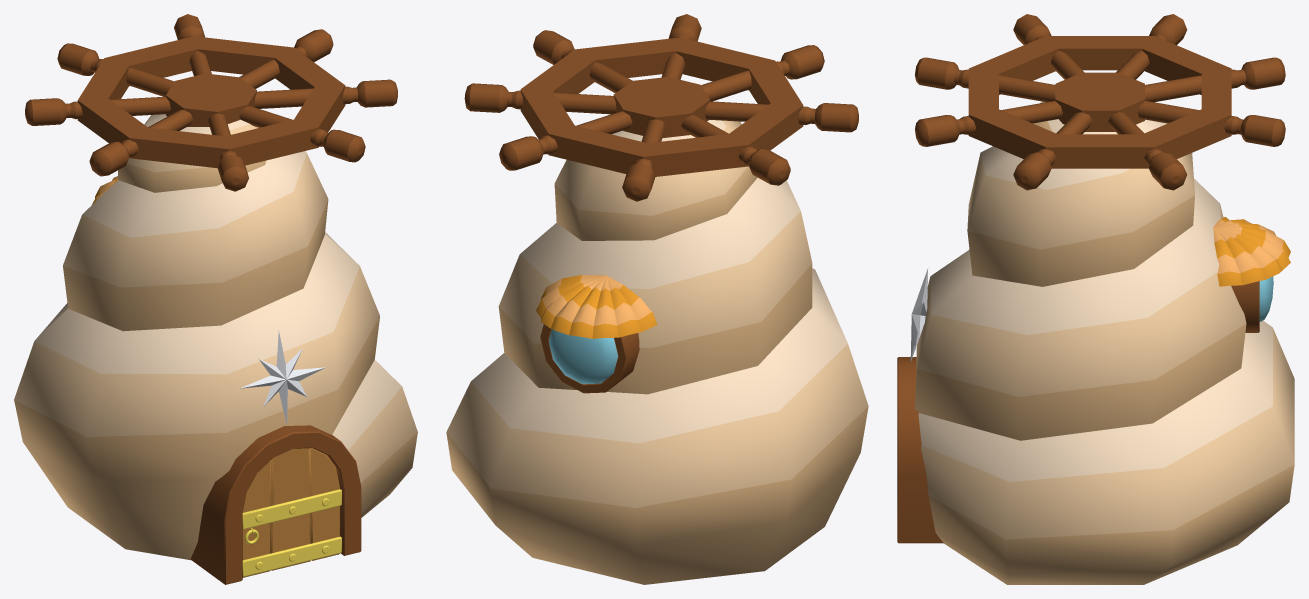
The model's file is House_10.fbx.
The picture shows the model from 3 angles, left to right: view 1: azimuth 30°, elevation 25°; view 2: azimuth 150°, elevation 25°; view 3: azimuth 270°, elevation 25°; orthographic projection. The views are drawn at different scales.
Parts seen in each view (by area): view 1: House_10; view 2: House_10; view 3: House_10.
Boxes of the visible parts, left/top/right/bottom form: House_10: left=14, top=14, right=417, bottom=584; House_10: left=446, top=14, right=868, bottom=584; House_10: left=897, top=14, right=1294, bottom=584.
Bounding box in the file's own units: 1.71 × 2 × 1.69.
